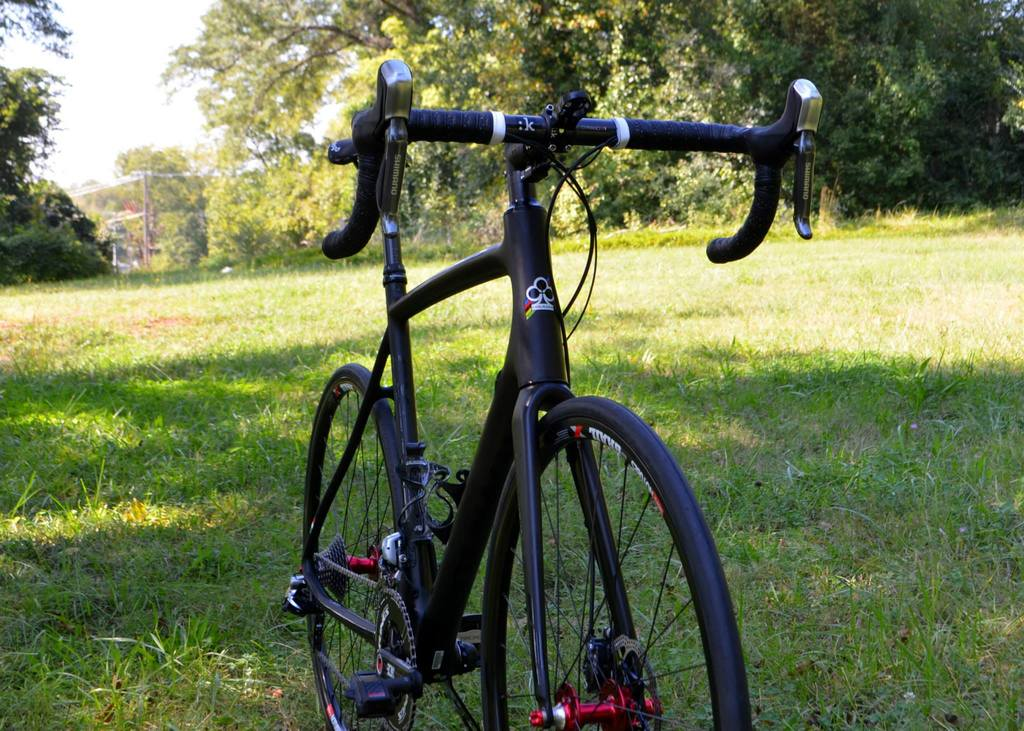Bike_toward: (277, 88, 814, 731)
